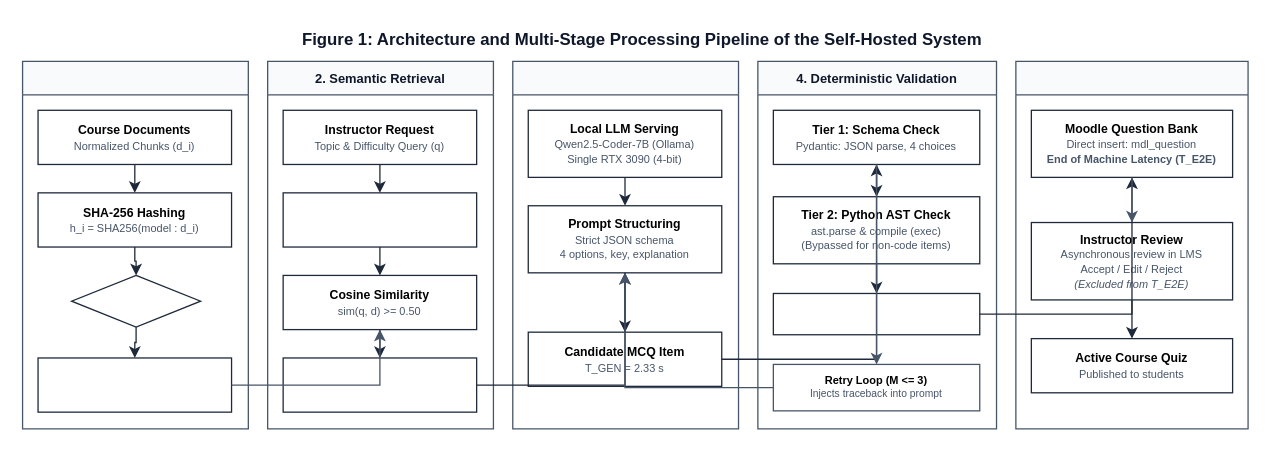
The diagram is 1271 pixels wide and 452 high, and some of its shapes have lost their labels. Here are the shapes that lost their labels. From the top down, the box of each, then its label:
(282, 192, 477, 247): Query Vectorization Dense 768-dim vector
(21, 60, 248, 429): 1. Course Indexing (T_KB)
(511, 60, 739, 429): 3. LLM Generation
(1015, 60, 1248, 429): 5. LMS Persistence
(70, 274, 201, 327): In Cache?
(772, 292, 980, 335): Verified Question Item
(37, 357, 232, 412): Hit: Reuse Vector (0 ms) Miss: nomic-embed (GPU)
(282, 357, 477, 412): Top-K Context Budget K = 3 chunks (~512 tokens)
